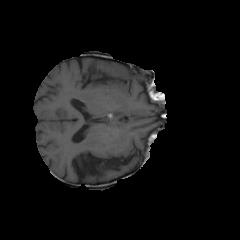glioma: (98, 62, 133, 97)
